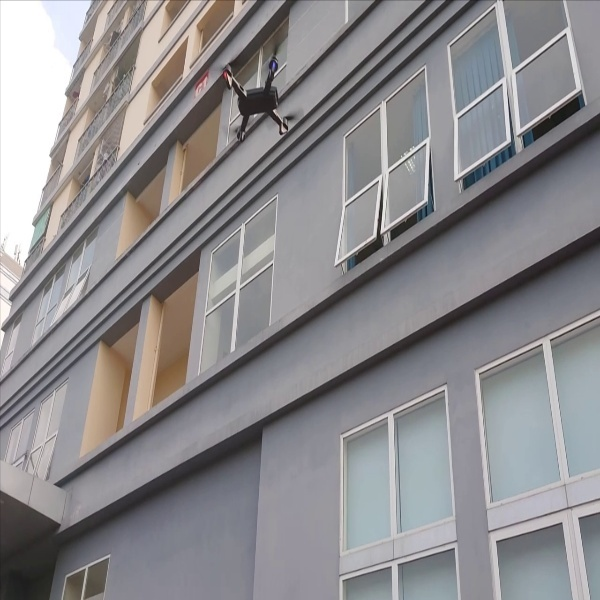drone: (219, 40, 301, 143)
